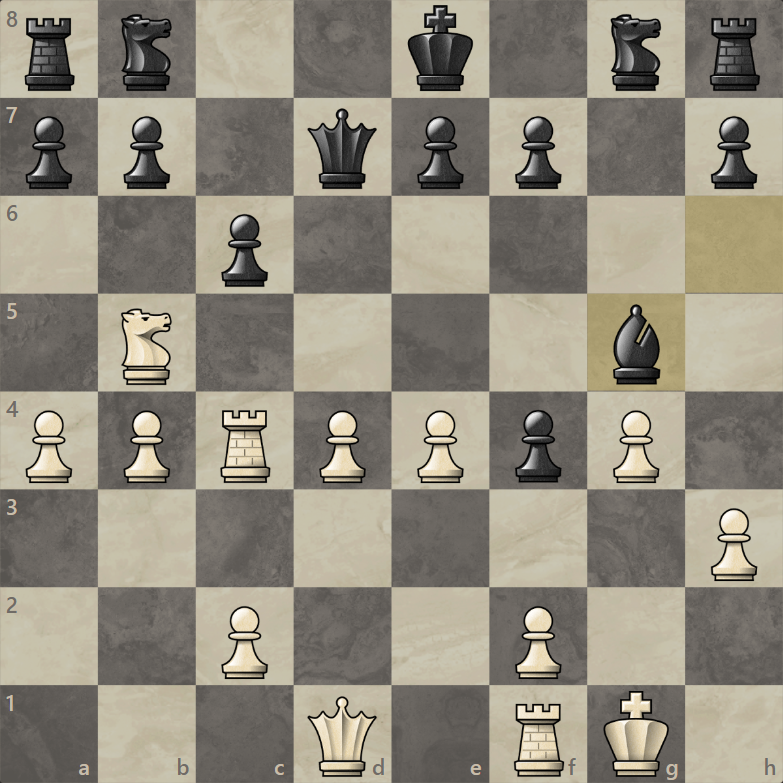K: (601, 688, 671, 779)
P: (513, 603, 565, 682), (220, 603, 271, 681), (708, 506, 759, 584), (611, 408, 662, 486), (415, 407, 466, 485), (316, 409, 367, 487), (120, 407, 171, 485), (22, 408, 73, 486)
Q: (305, 693, 380, 779)
R: (511, 699, 568, 781), (216, 408, 273, 486)
b: (609, 303, 666, 388)
k: (405, 3, 476, 93)
n: (116, 12, 178, 94), (605, 11, 665, 94)
p: (513, 407, 565, 486), (218, 210, 270, 289), (414, 114, 466, 193), (511, 112, 563, 191), (708, 114, 760, 193), (121, 113, 173, 192), (23, 113, 75, 192)
q: (306, 106, 378, 192)
r: (22, 14, 78, 96), (707, 15, 763, 94)
